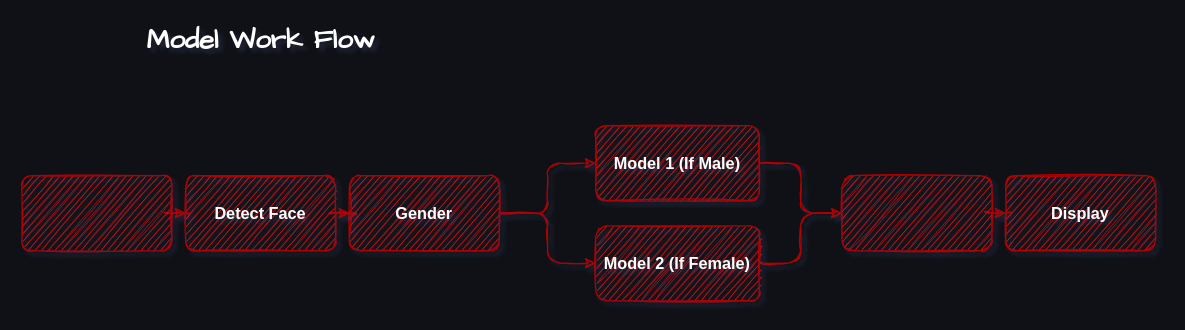
Some shapes in this 1185 by 330 pixel diagram are drawn without their labels. Each missing label, with the box of its shape:
Emotion: (841, 174, 992, 251)
Image: (21, 174, 172, 251)
